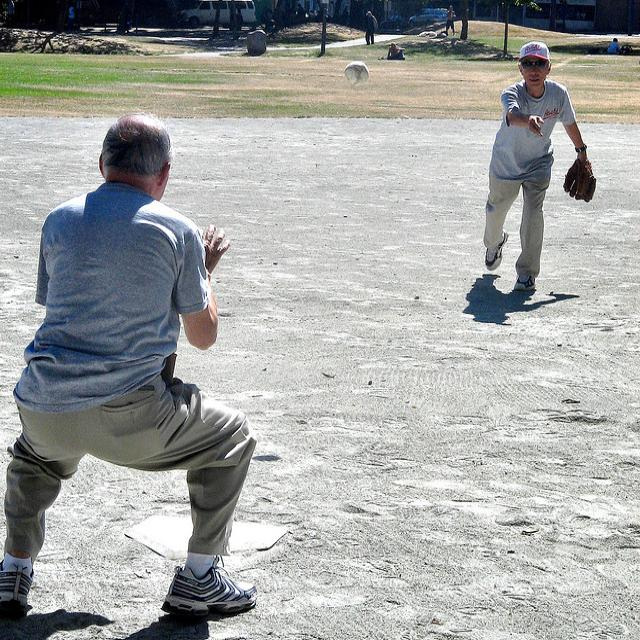Vehicle: (173, 0, 256, 27), (409, 8, 446, 26)
